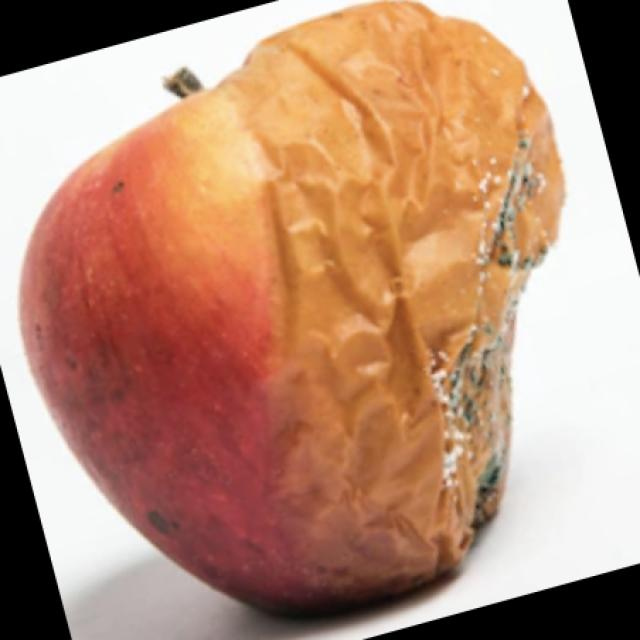organik: (10, 0, 568, 640)
